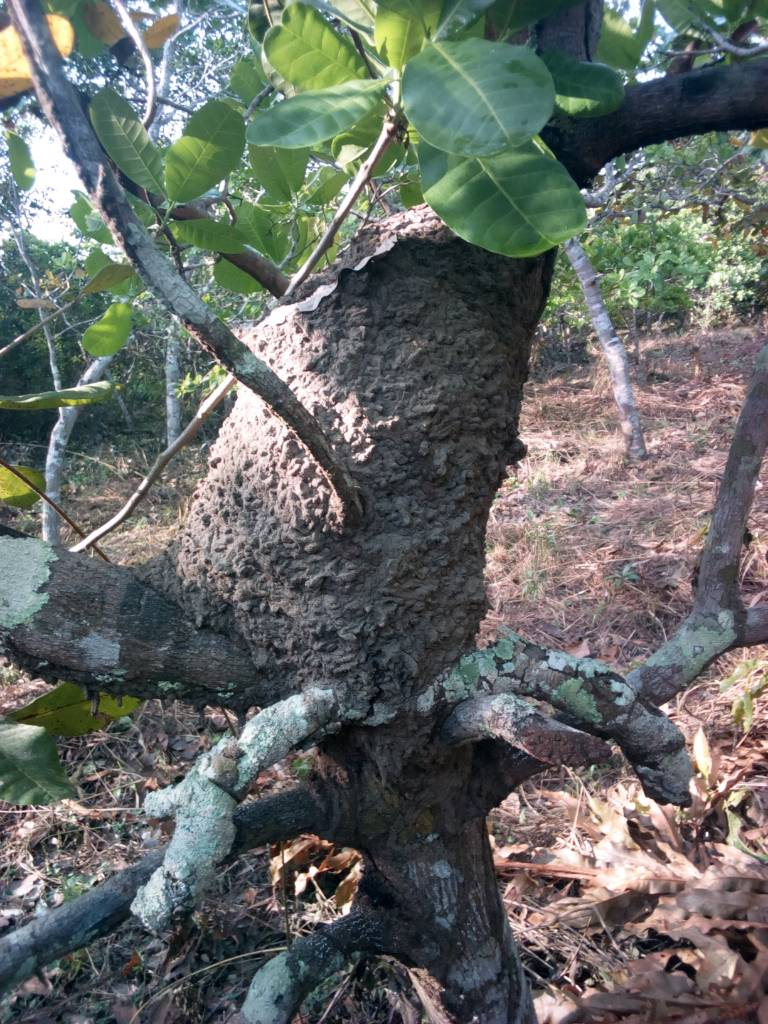Virose: (161, 179, 657, 764)
